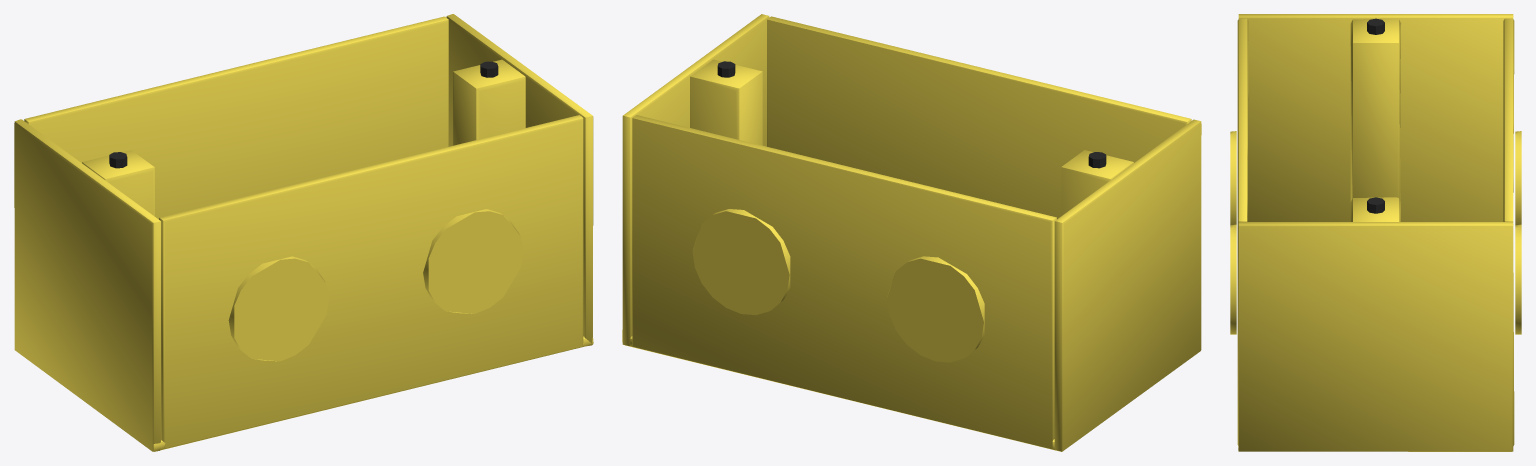
File: ELE-CXA-001_lod1.glb
The picture shows the model from 3 angles, left to right: view 1: azimuth 30°, elevation 25°; view 2: azimuth 150°, elevation 25°; view 3: azimuth 270°, elevation 25°; orthographic projection.
Parts seen in each view (by area): view 1: ELE-CXA-001_ly-1, ELE-CXA-001_ly1, ELE-CXA-001_lx-1, ELE-CXA-001_ko-1-1, ELE-CXA-001_ko-11, ELE-CXA-001_lx1, ELE-CXA-001_orelha1, ELE-CXA-001_orelha-1; view 2: ELE-CXA-001_ly1, ELE-CXA-001_ly-1, ELE-CXA-001_lx-1, ELE-CXA-001_ko11, ELE-CXA-001_ko1-1, ELE-CXA-001_lx1, ELE-CXA-001_orelha1, ELE-CXA-001_orelha-1; view 3: ELE-CXA-001_lx1, ELE-CXA-001_lx-1, ELE-CXA-001_orelha-1, ELE-CXA-001_ly-1, ELE-CXA-001_ly1, ELE-CXA-001_orelha1, ELE-CXA-001_ko11, ELE-CXA-001_ko-11, ELE-CXA-001_ko1-1, ELE-CXA-001_ko-1-1.
Part boxes in pixels (x1,y1,x2,y2): ELE-CXA-001_ly-1: (159, 115, 583, 449); ELE-CXA-001_ly1: (24, 16, 448, 219); ELE-CXA-001_lx-1: (14, 119, 161, 451); ELE-CXA-001_ko-1-1: (228, 256, 328, 361); ELE-CXA-001_ko-11: (423, 209, 523, 313); ELE-CXA-001_lx1: (446, 14, 593, 346); ELE-CXA-001_orelha1: (453, 59, 525, 145); ELE-CXA-001_orelha-1: (82, 150, 154, 216); ELE-CXA-001_ly1: (632, 115, 1056, 449); ELE-CXA-001_ly-1: (767, 16, 1191, 219); ELE-CXA-001_lx-1: (1054, 119, 1201, 451); ELE-CXA-001_ko11: (692, 209, 790, 314); ELE-CXA-001_ko1-1: (887, 256, 984, 362); ELE-CXA-001_lx1: (622, 14, 769, 346); ELE-CXA-001_orelha1: (690, 59, 762, 145); ELE-CXA-001_orelha-1: (1061, 150, 1133, 215); ELE-CXA-001_lx1: (1238, 222, 1513, 451); ELE-CXA-001_lx-1: (1238, 14, 1513, 221); ELE-CXA-001_orelha-1: (1350, 18, 1401, 201); ELE-CXA-001_ly-1: (1237, 18, 1248, 445); ELE-CXA-001_ly1: (1503, 18, 1514, 445); ELE-CXA-001_orelha1: (1350, 197, 1401, 221); ELE-CXA-001_ko11: (1515, 224, 1521, 334); ELE-CXA-001_ko-11: (1230, 224, 1236, 334); ELE-CXA-001_ko1-1: (1515, 131, 1521, 225); ELE-CXA-001_ko-1-1: (1230, 131, 1236, 225).
Bounding box in the file's own units: 0.1 × 0.0515 × 0.0578.
